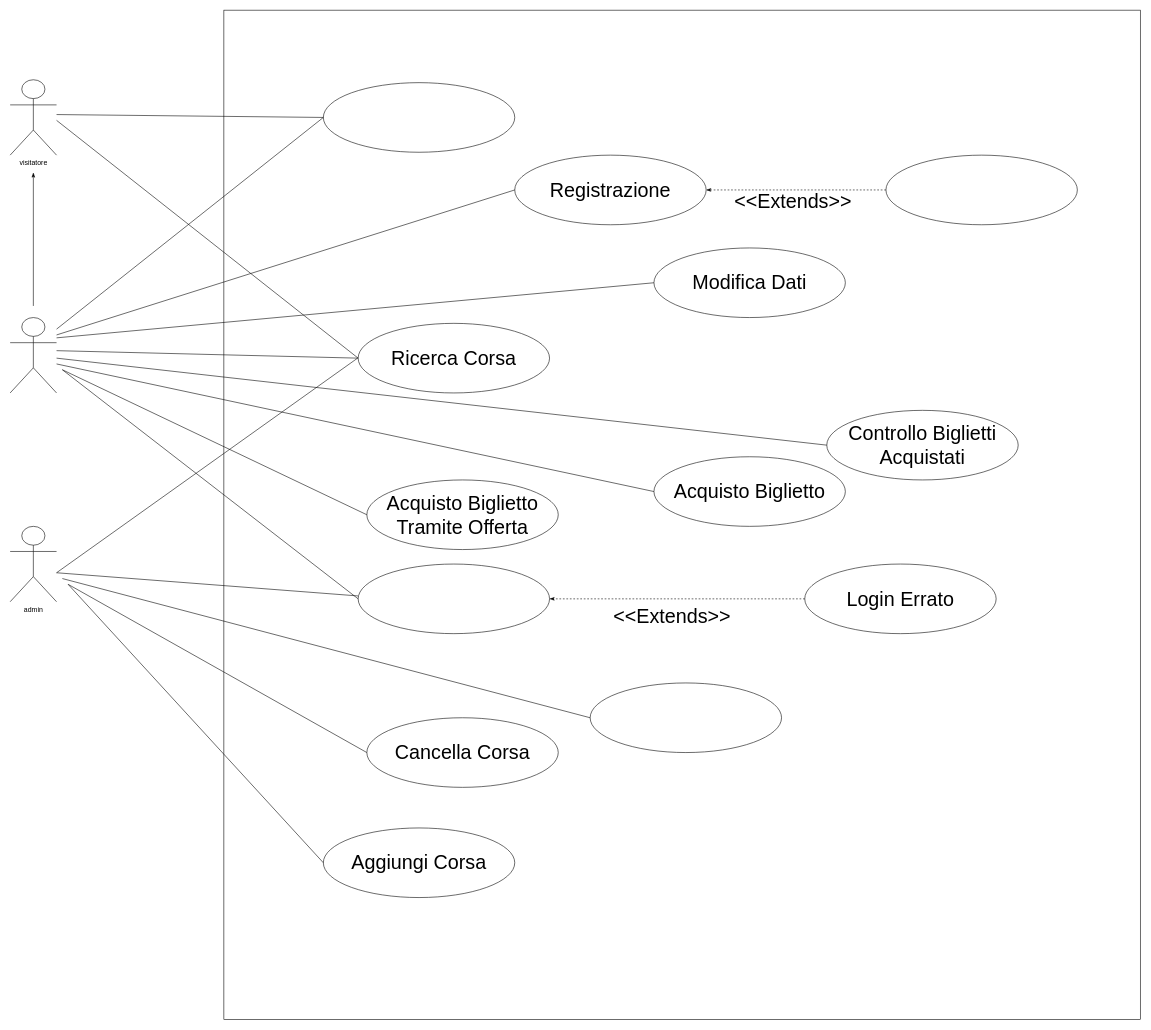
Some shapes in this 1151 by 1030 pixel diagram are drawn without their labels. Each missing label, with the box of its shape:
Errore Registrazione: (885, 155, 1077, 225)
Login: (358, 563, 550, 634)
Modifica Corsa: (590, 682, 782, 753)
utente: (10, 317, 57, 393)
Visualizza Offerte: (323, 82, 515, 152)
